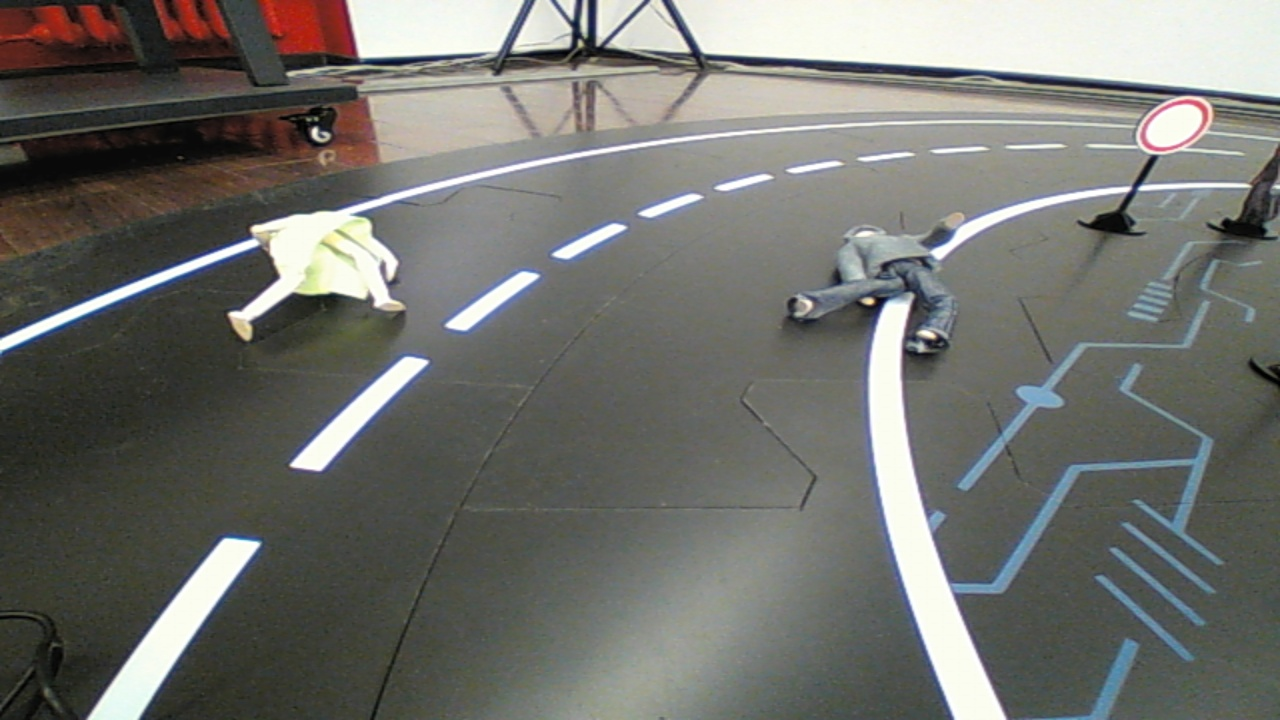Road works: (783, 203, 988, 372), (218, 195, 425, 346)
